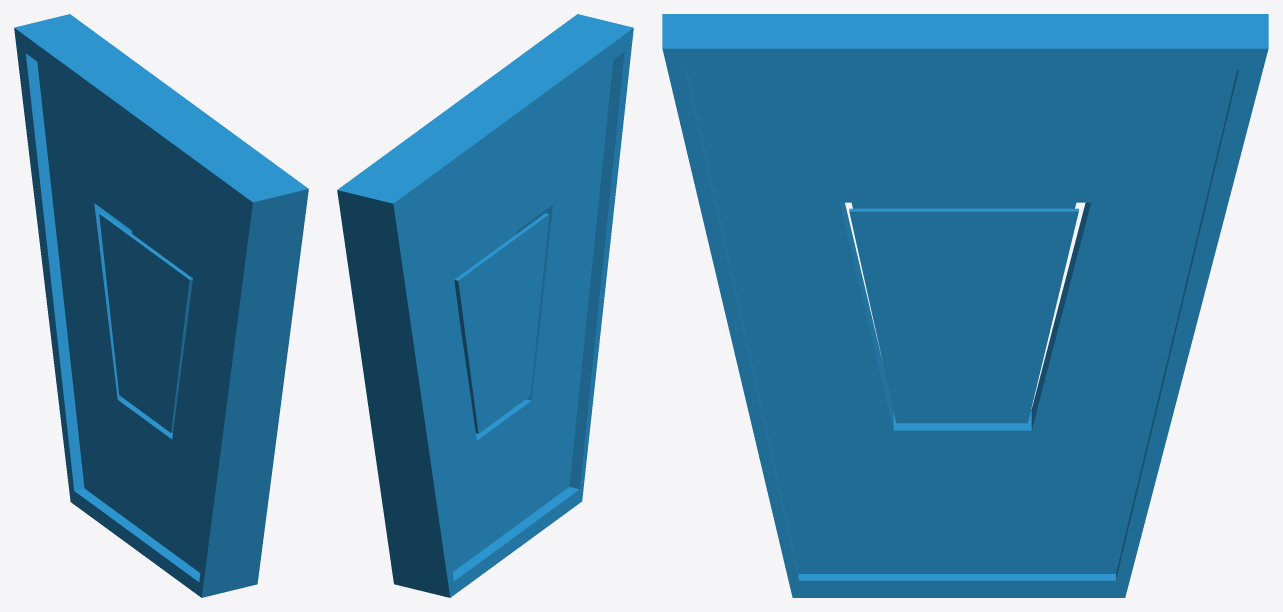
File: Shield.fbx
The picture shows the model from 3 angles, left to right: view 1: azimuth 30°, elevation 25°; view 2: azimuth 150°, elevation 25°; view 3: azimuth 270°, elevation 25°; orthographic projection. The views are drawn at different scales.
Parts seen in each view (by area): view 1: Cube; view 2: Cube; view 3: Cube.
Part boxes in pixels (x1,y1,x2,y2): Cube: (14, 14, 308, 597); Cube: (337, 14, 633, 597); Cube: (662, 14, 1268, 597).
Size of the model in its own units: 27.02 by 200 by 200.
